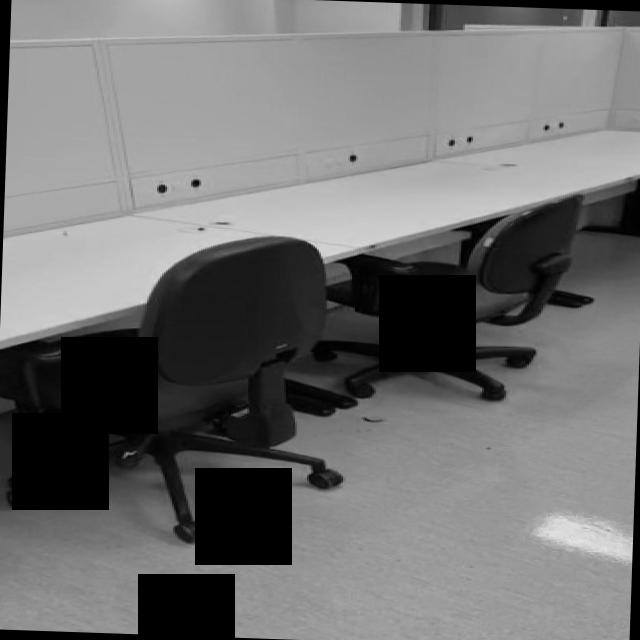cadeira-azul: (0, 223, 353, 545)
